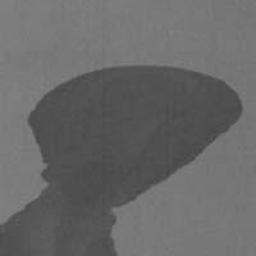Oil spot: (0, 64, 243, 256)
